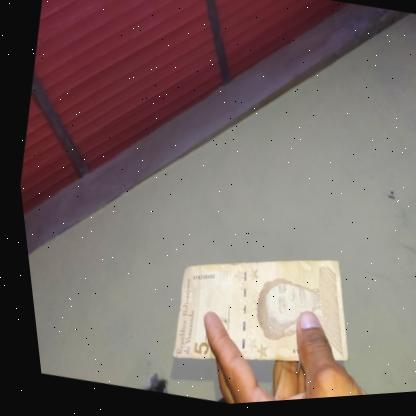five-front-vef: (151, 229, 363, 401)
